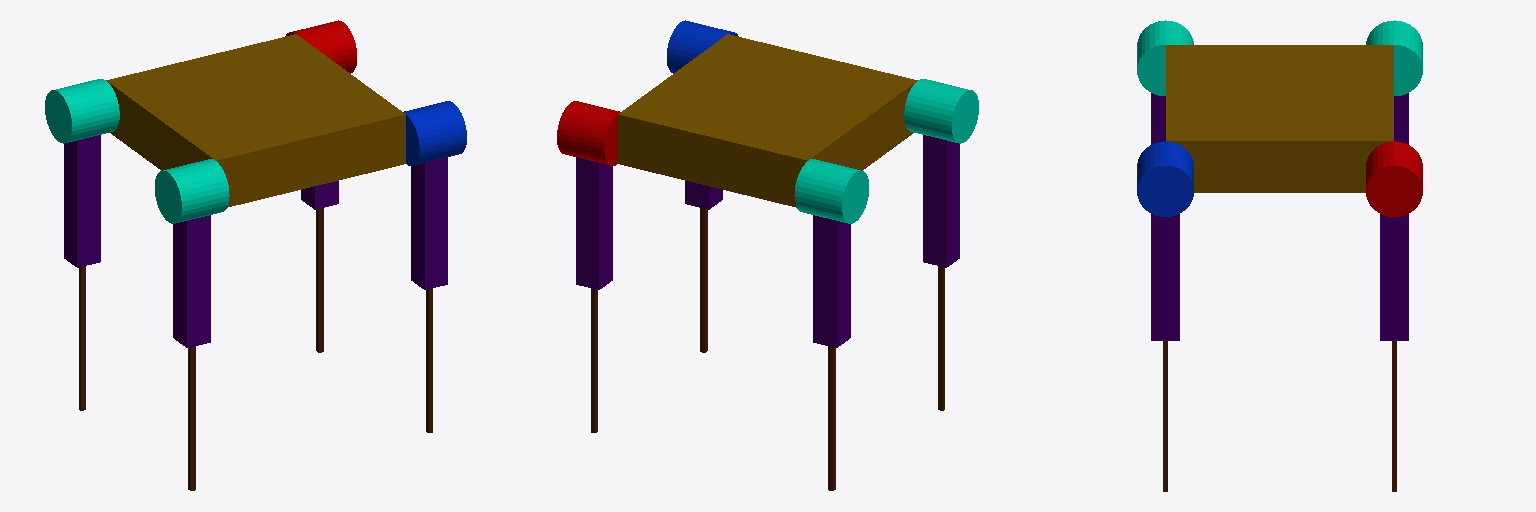
URDF robot description (robot):
<robot name="robot">
  <link name="base_footprint"></link>
  <joint name="base_joint" type="fixed">
    <parent link="base_footprint" />
    <child link="base_link" />
    <origin xyz="0 0 0.3" rpy="0 0 0" />
  </joint>
  <link name="base_link">
    <visual>
      <origin xyz="0 0 0" rpy="0 0 0" />
      <geometry>
        <box size="0.4 0.4 0.1" />
      </geometry>
      <material name="base_link-material">
        <color rgba="0.48514994004665124 0.34670405634441115 0.026241221889696346 1" />
      </material>
    </visual>
    <collision>
      <origin xyz="0 0 0" rpy="0 0 0" />
      <geometry>
        <box size="0.2 0.2 0.2" />
      </geometry>
    </collision>
    <inertial>
      <origin xyz="0 0 0" rpy="0 0 0" />
      <mass value="1" />
      <inertia ixx="0.16666666666666666" ixy="0" ixz="0" iyy="0.16666666666666666" iyz="0" izz="0.16666666666666666" />
    </inertial>

        <sensor type="imu" name="imu">
            <always_on>true</always_on>
            <update_rate>100</update_rate>
            <origin>0 0 0.3 0 0 0</origin>
            <imu>
                <noise>
                    <type>gaussian</type>
                    <mean>0</mean>
                    <stddev>0</stddev>
                </noise>
            </imu>
        </sensor>
      </link>
  <joint name="base_link_to_fl_hip" type="revolute">
    <parent link="base_link" />
    <child link="fl_hip" />
    <origin xyz="0.25 0.2 0" rpy="0 1.5707963267948966 0" />
    <axis xyz="0 0 1"/>
    <limit effort="1000.0" lower="-1" upper="1" velocity="0.5"/>  </joint>
  <link name="fl_hip">
    <visual>
      <origin xyz="0 0 0" rpy="0 0 0" />
      <geometry>
        <cylinder radius="0.05" length="0.1" />
      </geometry>
      <material name="fl_hip-material">
        <color rgba="0.7454042095350284 0.010960094003125918 0.01764195448412081 1" />
      </material>
    </visual>
    <collision>
      <origin xyz="0 0 0" rpy="0 0 0" />
      <geometry>
        <box size="0.1 0.1 0.1" />
      </geometry>
    </collision>
    <inertial>
      <origin xyz="0 0 0" rpy="0 0 0" />
      <mass value="1" />
      <inertia ixx="0.16666666666666666" ixy="0" ixz="0" iyy="0.16666666666666666" iyz="0" izz="0.16666666666666666" />
    </inertial>
  </link>
  <joint name="fl_hip_to_fl_knee" type="revolute">
    <parent link="fl_hip" />
    <child link="fl_knee" />
    <origin xyz="-0.0005637947828583401 0 -5.551115123125783e-17" rpy="1.5707963267948963 0 0" />
    <axis xyz="0 0 1"/>
    <limit effort="1000.0" lower="-1" upper="1" velocity="0.5"/>  </joint>
  <link name="fl_knee">
    <visual>
      <origin xyz="0.15 0 0" rpy="0 0 0" />
      <geometry>
        <box size="0.3 0.05 0.05" />
      </geometry>
      <material name="fl_knee-material">
        <color rgba="0.3005437944049895 0.013702083043526807 0.450785782828426 1" />
      </material>
    </visual>
    <collision>
      <origin xyz="0.15 0 0" rpy="0 0 0" />
      <geometry>
        <box size="0.3 0.05 0.05" />
      </geometry>
    </collision>
    <inertial>
      <origin xyz="0.15 0 0" rpy="0 0 0" />
      <mass value="1" />
      <inertia ixx="0.16666666666666666" ixy="0" ixz="0" iyy="0.16666666666666666" iyz="0" izz="0.16666666666666666" />
    </inertial>
  </link>
  <joint name="fl_knee_to_fl_foot" type="revolute">
    <parent link="fl_knee" />
    <child link="fl_foot" />
    <origin xyz="0.30056379478285833 -5.551115123125783e-17 -2.465190328815662e-32" rpy="0 0 0" />
    <axis xyz="0 0 1"/>
    <limit effort="1000.0" lower="-1" upper="1" velocity="0.5"/>  </joint>
  <link name="fl_foot">
    <visual>
      <origin xyz="0.15 0 0" rpy="0 0 0" />
      <geometry>
        <box size="0.3 0.01 0.01" />
      </geometry>
      <material name="fl_foot-material">
        <color rgba="0.3139887133649649 0.14412847084818123 0.057805430183792694 1" />
      </material>
    </visual>
    <collision>
      <origin xyz="0.15 0 0" rpy="0 0 0" />
      <geometry>
        <box size="0.3 0.05 0.05" />
      </geometry>
    </collision>
    <inertial>
      <origin xyz="0.15 0 0" rpy="0 0 0" />
      <mass value="1" />
      <inertia ixx="0.16666666666666666" ixy="0" ixz="0" iyy="0.16666666666666666" iyz="0" izz="0.16666666666666666" />
    </inertial>
  </link>
  <joint name="base_link_to_fr_hip" type="revolute">
    <parent link="base_link" />
    <child link="fr_hip" />
    <origin xyz="0.25 -0.2 0" rpy="0 1.5707963267948966 0" />
    <axis xyz="0 0 1"/>
    <limit effort="1000.0" lower="-1" upper="1" velocity="0.5"/>  </joint>
  <link name="fr_hip">
    <visual>
      <origin xyz="0 0 0" rpy="0 0 0" />
      <geometry>
        <cylinder radius="0.05" length="0.1" />
      </geometry>
      <material name="fr_hip-material">
        <color rgba="0.035601314869097636 0.23074004851362043 0.775822218312646 1" />
      </material>
    </visual>
    <collision>
      <origin xyz="0 0 0" rpy="0 0 0" />
      <geometry>
        <box size="0.1 0.1 0.1" />
      </geometry>
    </collision>
    <inertial>
      <origin xyz="0 0 0" rpy="0 0 0" />
      <mass value="1" />
      <inertia ixx="0.16666666666666666" ixy="0" ixz="0" iyy="0.16666666666666666" iyz="0" izz="0.16666666666666666" />
    </inertial>
  </link>
  <joint name="fr_hip_to_fr_knee" type="revolute">
    <parent link="fr_hip" />
    <child link="fr_knee" />
    <origin xyz="-0.0005637947828583401 0 -5.551115123125783e-17" rpy="1.5707963267948963 0 0" />
    <axis xyz="0 0 1"/>
    <limit effort="1000.0" lower="-1" upper="1" velocity="0.5"/>  </joint>
  <link name="fr_knee">
    <visual>
      <origin xyz="0.15 0 0" rpy="0 0 0" />
      <geometry>
        <box size="0.3 0.05 0.05" />
      </geometry>
      <material name="fr_knee-material">
        <color rgba="0.3005437944049895 0.013702083043526807 0.450785782828426 1" />
      </material>
    </visual>
    <collision>
      <origin xyz="0.15 0 0" rpy="0 0 0" />
      <geometry>
        <box size="0.3 0.05 0.05" />
      </geometry>
    </collision>
    <inertial>
      <origin xyz="0.15 0 0" rpy="0 0 0" />
      <mass value="1" />
      <inertia ixx="0.16666666666666666" ixy="0" ixz="0" iyy="0.16666666666666666" iyz="0" izz="0.16666666666666666" />
    </inertial>
  </link>
  <joint name="fr_knee_to_fr_foot" type="revolute">
    <parent link="fr_knee" />
    <child link="fr_foot" />
    <origin xyz="0.30056379478285833 -5.551115123125783e-17 -2.465190328815662e-32" rpy="0 0 0" />
    <axis xyz="0 0 1"/>
    <limit effort="1000.0" lower="-1" upper="1" velocity="0.5"/>  </joint>
  <link name="fr_foot">
    <visual>
      <origin xyz="0.15 0 0" rpy="0 0 0" />
      <geometry>
        <box size="0.3 0.01 0.01" />
      </geometry>
      <material name="fr_foot-material">
        <color rgba="0.3139887133649649 0.14412847084818123 0.057805430183792694 1" />
      </material>
    </visual>
    <collision>
      <origin xyz="0.15 0 0" rpy="0 0 0" />
      <geometry>
        <box size="0.3 0.05 0.05" />
      </geometry>
    </collision>
    <inertial>
      <origin xyz="0.15 0 0" rpy="0 0 0" />
      <mass value="1" />
      <inertia ixx="0.16666666666666666" ixy="0" ixz="0" iyy="0.16666666666666666" iyz="0" izz="0.16666666666666666" />
    </inertial>
  </link>
  <joint name="base_link_to_rr_hip" type="revolute">
    <parent link="base_link" />
    <child link="rr_hip" />
    <origin xyz="-0.25 -0.2 0" rpy="0 1.5707963267948966 0" />
    <axis xyz="0 0 1"/>
    <limit effort="1000.0" lower="-1" upper="1" velocity="0.5"/>  </joint>
  <link name="rr_hip">
    <visual>
      <origin xyz="0 0 0" rpy="0 0 0" />
      <geometry>
        <cylinder radius="0.05" length="0.1" />
      </geometry>
      <material name="rr_hip-material">
        <color rgba="0.01680737574872402 0.8148465722120952 0.6866853124288864 1" />
      </material>
    </visual>
    <collision>
      <origin xyz="0 0 0" rpy="0 0 0" />
      <geometry>
        <box size="0.1 0.1 0.1" />
      </geometry>
    </collision>
    <inertial>
      <origin xyz="0 0 0" rpy="0 0 0" />
      <mass value="1" />
      <inertia ixx="0.16666666666666666" ixy="0" ixz="0" iyy="0.16666666666666666" iyz="0" izz="0.16666666666666666" />
    </inertial>
  </link>
  <joint name="rr_hip_to_rr_knee" type="revolute">
    <parent link="rr_hip" />
    <child link="rr_knee" />
    <origin xyz="-0.0005637947828583401 0 -5.551115123125783e-17" rpy="1.5707963267948963 0 0" />
    <axis xyz="0 0 1"/>
    <limit effort="1000.0" lower="-1" upper="1" velocity="0.5"/>  </joint>
  <link name="rr_knee">
    <visual>
      <origin xyz="0.15 0 0" rpy="0 0 0" />
      <geometry>
        <box size="0.3 0.05 0.05" />
      </geometry>
      <material name="rr_knee-material">
        <color rgba="0.3005437944049895 0.013702083043526807 0.450785782828426 1" />
      </material>
    </visual>
    <collision>
      <origin xyz="0.15 0 0" rpy="0 0 0" />
      <geometry>
        <box size="0.3 0.05 0.05" />
      </geometry>
    </collision>
    <inertial>
      <origin xyz="0.15 0 0" rpy="0 0 0" />
      <mass value="1" />
      <inertia ixx="0.16666666666666666" ixy="0" ixz="0" iyy="0.16666666666666666" iyz="0" izz="0.16666666666666666" />
    </inertial>
  </link>
  <joint name="rr_knee_to_rr_foot" type="revolute">
    <parent link="rr_knee" />
    <child link="rr_foot" />
    <origin xyz="0.30056379478285833 -5.551115123125783e-17 -2.465190328815662e-32" rpy="0 0 0" />
    <axis xyz="0 0 1"/>
    <limit effort="1000.0" lower="-1" upper="1" velocity="0.5"/>  </joint>
  <link name="rr_foot">
    <visual>
      <origin xyz="0.15 0 0" rpy="0 0 0" />
      <geometry>
        <box size="0.3 0.01 0.01" />
      </geometry>
      <material name="rr_foot-material">
        <color rgba="0.3139887133649649 0.14412847084818123 0.057805430183792694 1" />
      </material>
    </visual>
    <collision>
      <origin xyz="0.15 0 0" rpy="0 0 0" />
      <geometry>
        <box size="0.3 0.05 0.05" />
      </geometry>
    </collision>
    <inertial>
      <origin xyz="0.15 0 0" rpy="0 0 0" />
      <mass value="1" />
      <inertia ixx="0.16666666666666666" ixy="0" ixz="0" iyy="0.16666666666666666" iyz="0" izz="0.16666666666666666" />
    </inertial>
  </link>
  <joint name="base_link_to_rl_hip" type="revolute">
    <parent link="base_link" />
    <child link="rl_hip" />
    <origin xyz="-0.25 0.2 0" rpy="0 1.5707963267948966 0" />
    <axis xyz="0 0 1"/>
    <limit effort="1000.0" lower="-1" upper="1" velocity="0.5"/>  </joint>
  <link name="rl_hip">
    <visual>
      <origin xyz="0 0 0" rpy="0 0 0" />
      <geometry>
        <cylinder radius="0.05" length="0.1" />
      </geometry>
      <material name="rl_hip-material">
        <color rgba="0.01680737574872402 0.8148465722120952 0.6866853124288864 1" />
      </material>
    </visual>
    <collision>
      <origin xyz="0 0 0" rpy="0 0 0" />
      <geometry>
        <box size="0.1 0.1 0.1" />
      </geometry>
    </collision>
    <inertial>
      <origin xyz="0 0 0" rpy="0 0 0" />
      <mass value="1" />
      <inertia ixx="0.16666666666666666" ixy="0" ixz="0" iyy="0.16666666666666666" iyz="0" izz="0.16666666666666666" />
    </inertial>
  </link>
  <joint name="rl_hip_to_rl_knee" type="revolute">
    <parent link="rl_hip" />
    <child link="rl_knee" />
    <origin xyz="-0.0005637947828583401 0 -5.551115123125783e-17" rpy="1.5707963267948963 0 0" />
    <axis xyz="0 0 1"/>
    <limit effort="1000.0" lower="-1" upper="1" velocity="0.5"/>  </joint>
  <link name="rl_knee">
    <visual>
      <origin xyz="0.15 0 0" rpy="0 0 0" />
      <geometry>
        <box size="0.3 0.05 0.05" />
      </geometry>
      <material name="rl_knee-material">
        <color rgba="0.3005437944049895 0.013702083043526807 0.450785782828426 1" />
      </material>
    </visual>
    <collision>
      <origin xyz="0.15 0 0" rpy="0 0 0" />
      <geometry>
        <box size="0.3 0.05 0.05" />
      </geometry>
    </collision>
    <inertial>
      <origin xyz="0.15 0 0" rpy="0 0 0" />
      <mass value="1" />
      <inertia ixx="0.16666666666666666" ixy="0" ixz="0" iyy="0.16666666666666666" iyz="0" izz="0.16666666666666666" />
    </inertial>
  </link>
  <joint name="rl_knee_to_rl_foot" type="revolute">
    <parent link="rl_knee" />
    <child link="rl_foot" />
    <origin xyz="0.30056379478285833 -5.551115123125783e-17 -2.465190328815662e-32" rpy="0 0 0" />
    <axis xyz="0 0 1"/>
    <limit effort="1000.0" lower="-1" upper="1" velocity="0.5"/>  </joint>
  <link name="rl_foot">
    <visual>
      <origin xyz="0.15 0 0" rpy="0 0 0" />
      <geometry>
        <box size="0.3 0.01 0.01" />
      </geometry>
      <material name="rl_foot-material">
        <color rgba="0.3139887133649649 0.14412847084818123 0.057805430183792694 1" />
      </material>
    </visual>
    <collision>
      <origin xyz="0.15 0 0" rpy="0 0 0" />
      <geometry>
        <box size="0.3 0.05 0.05" />
      </geometry>
    </collision>
    <inertial>
      <origin xyz="0.15 0 0" rpy="0 0 0" />
      <mass value="1" />
      <inertia ixx="0.16666666666666666" ixy="0" ixz="0" iyy="0.16666666666666666" iyz="0" izz="0.16666666666666666" />
    </inertial>
  </link>
</robot>

--- Facts derived from the render (not from the file) ---
The picture shows the robot from 3 angles, left to right: view 1: azimuth 30°, elevation 25°; view 2: azimuth 150°, elevation 25°; view 3: azimuth 270°, elevation 25°; orthographic projection.
Model robot with 14 links and 13 joints (12 revolute, 1 fixed), rooted at base_footprint, posed all joints at 0.
Links seen in each view (by area): view 1: base_link, rr_knee, rl_knee, fr_knee, rl_hip, rr_hip, fr_hip, fl_hip, fl_foot, rr_foot, rl_foot, fr_foot (+1 smaller); view 2: base_link, rl_knee, rr_knee, fl_knee, rr_hip, rl_hip, fl_hip, fr_hip, fr_foot, rl_foot, rr_foot, fl_foot (+1 smaller); view 3: base_link, fl_hip, fr_hip, fl_knee, fr_knee, rr_hip, rl_hip, fl_foot, fr_foot, rr_knee, rl_knee.
Boxes of the visible links, x1=… form: base_link: x1=106, y1=34, x2=405, y2=207; rr_knee: x1=173, y1=215, x2=210, y2=347; rl_knee: x1=64, y1=135, x2=100, y2=267; fr_knee: x1=411, y1=157, x2=447, y2=289; rl_hip: x1=45, y1=79, x2=119, y2=143; rr_hip: x1=155, y1=159, x2=229, y2=223; fr_hip: x1=403, y1=101, x2=466, y2=165; fl_hip: x1=285, y1=20, x2=356, y2=73; fl_foot: x1=316, y1=208, x2=323, y2=352; rr_foot: x1=188, y1=346, x2=195, y2=490; rl_foot: x1=79, y1=266, x2=85, y2=410; fr_foot: x1=426, y1=288, x2=432, y2=432; base_link: x1=618, y1=34, x2=917, y2=207; rl_knee: x1=813, y1=215, x2=850, y2=347; rr_knee: x1=923, y1=135, x2=959, y2=267; fl_knee: x1=576, y1=157, x2=612, y2=289; rr_hip: x1=904, y1=79, x2=978, y2=143; rl_hip: x1=794, y1=159, x2=868, y2=223; fl_hip: x1=557, y1=101, x2=620, y2=165; fr_hip: x1=667, y1=20, x2=738, y2=73; fr_foot: x1=700, y1=208, x2=707, y2=352; rl_foot: x1=828, y1=346, x2=835, y2=490; rr_foot: x1=938, y1=266, x2=944, y2=410; fl_foot: x1=591, y1=288, x2=597, y2=432; base_link: x1=1166, y1=45, x2=1393, y2=192; fl_hip: x1=1366, y1=141, x2=1422, y2=216; fr_hip: x1=1137, y1=141, x2=1193, y2=216; fl_knee: x1=1380, y1=214, x2=1408, y2=340; fr_knee: x1=1151, y1=214, x2=1179, y2=340; rr_hip: x1=1137, y1=20, x2=1193, y2=95; rl_hip: x1=1366, y1=20, x2=1422, y2=95; fl_foot: x1=1392, y1=341, x2=1396, y2=491; fr_foot: x1=1163, y1=341, x2=1167, y2=491; rr_knee: x1=1151, y1=93, x2=1165, y2=144; rl_knee: x1=1394, y1=93, x2=1408, y2=144.
Size in the robot's own frame: 0.6 by 0.5 by 0.65 metres.
Geometry: primitives only (box / cylinder / sphere), no mesh files.
